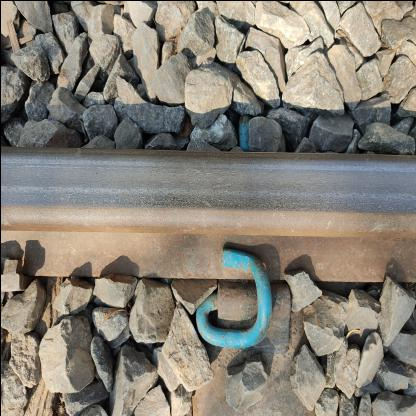Non Defective: (178, 218, 367, 372)
